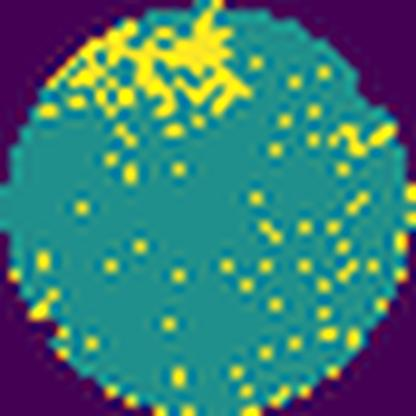Loc: (47, 10, 250, 116)
